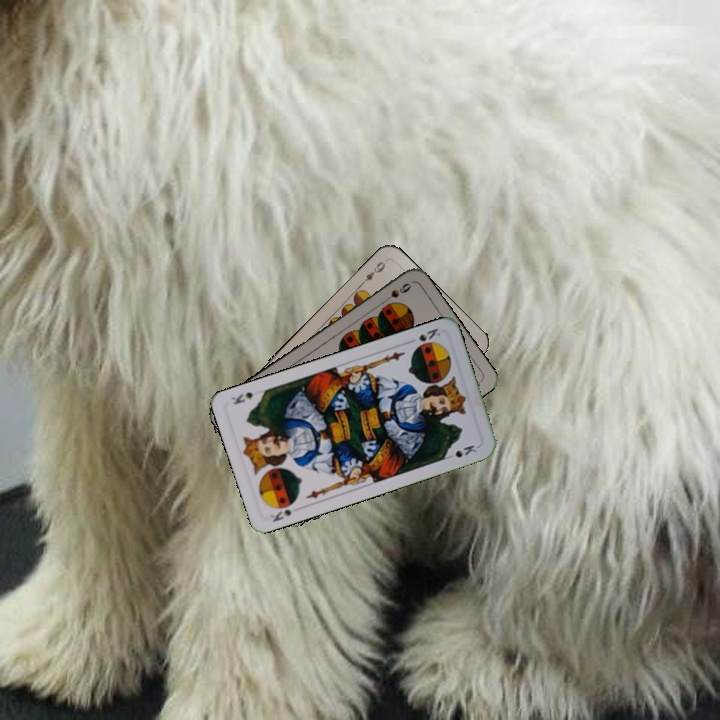E9: (357, 256, 388, 288)
S9: (378, 279, 414, 307)
SK: (267, 497, 304, 525), (411, 324, 443, 351)
